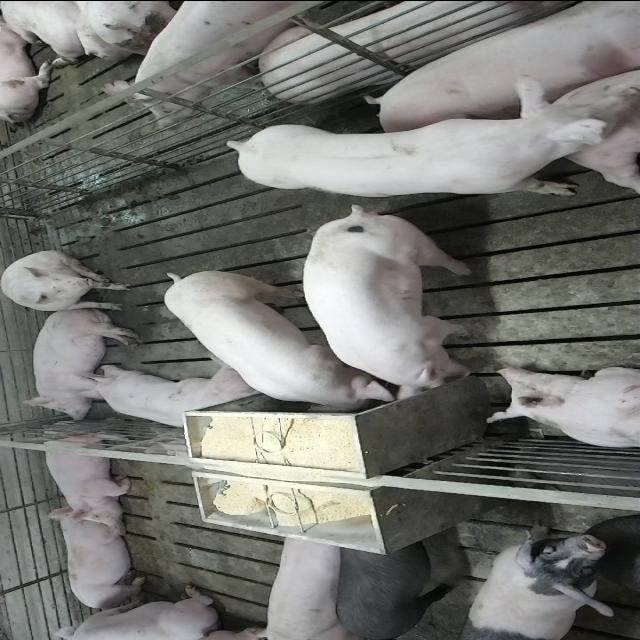Feeding: (302, 204, 482, 404), (162, 264, 392, 412)
Lateral_lying: (368, 0, 640, 128), (260, 0, 596, 100), (18, 306, 142, 422)
Sitting: (2, 250, 134, 312)
Standing: (225, 100, 631, 199), (104, 0, 346, 125), (459, 523, 618, 637), (334, 531, 466, 638), (263, 526, 360, 636)
Sternal_lying: (486, 363, 640, 449), (74, 366, 259, 431), (39, 584, 231, 638), (51, 509, 150, 612), (36, 424, 134, 524)
